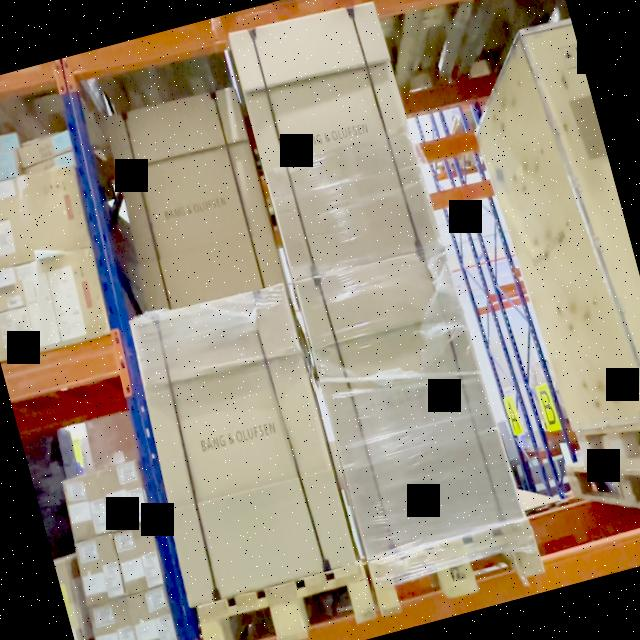box: (292, 244, 521, 564), (129, 285, 357, 604), (229, 0, 443, 284), (0, 167, 89, 268), (113, 522, 163, 594), (77, 533, 125, 607), (98, 460, 148, 528), (62, 472, 111, 540), (128, 583, 175, 640), (88, 595, 136, 640), (19, 129, 73, 167), (0, 148, 20, 168), (0, 133, 19, 151)
